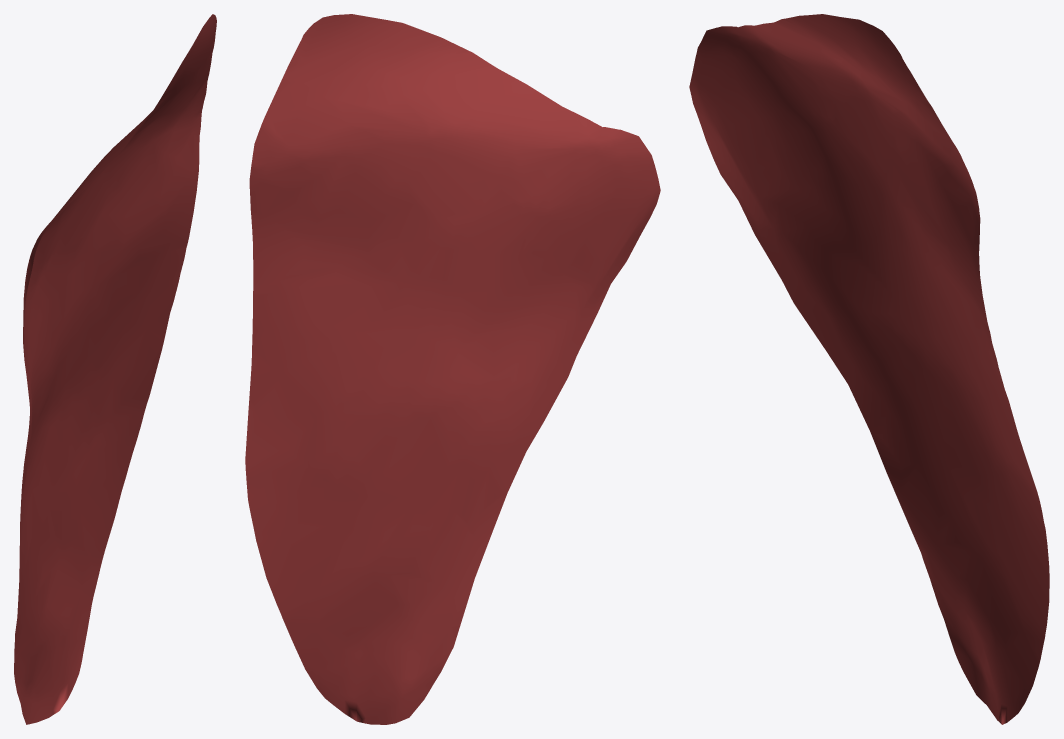
File: subscapularis-muscle-or.glb
3 views of the same model, side by side, from view 1: azimuth 30°, elevation 25°; view 2: azimuth 150°, elevation 25°; view 3: azimuth 270°, elevation 25° (orthographic). The views are drawn at different scales.
Parts seen in each view (by area): view 1: Subscapularis muscle.or; view 2: Subscapularis muscle.or; view 3: Subscapularis muscle.or.
Part boxes in pixels (x1,y1,x2,y2): Subscapularis muscle.or: [14, 14, 216, 724]; Subscapularis muscle.or: [245, 14, 660, 724]; Subscapularis muscle.or: [689, 14, 1049, 724].
Size of the model in its own units: 0.0606 by 0.1315 by 0.0576.
